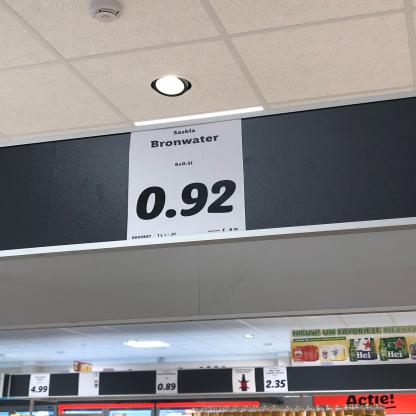prtg: (127, 120, 247, 241)
